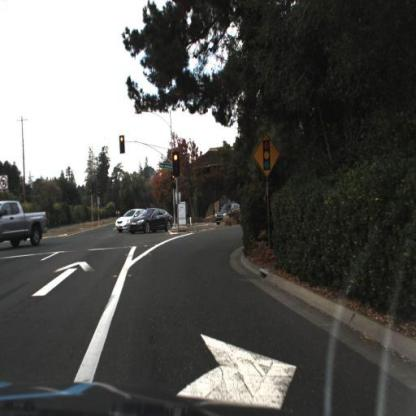car: (2, 198, 50, 250), (129, 207, 176, 235), (116, 208, 151, 236), (212, 197, 243, 228)
trafficLight-Red: (171, 150, 181, 176), (117, 134, 127, 157)
